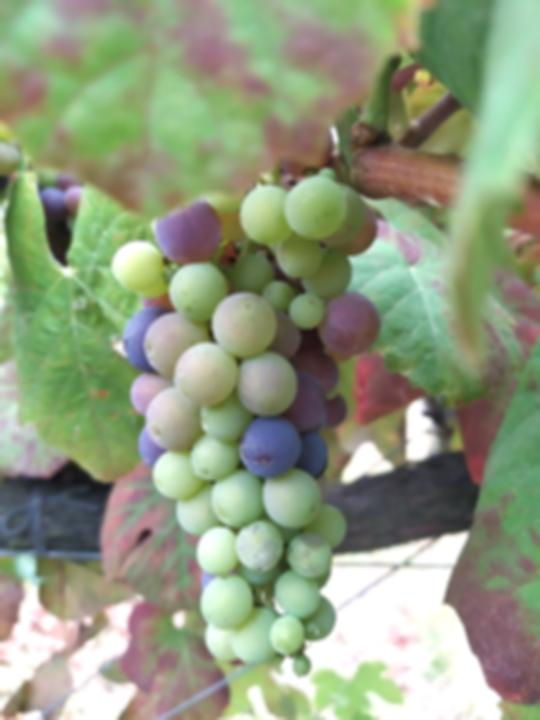grape: (110, 171, 383, 683)
